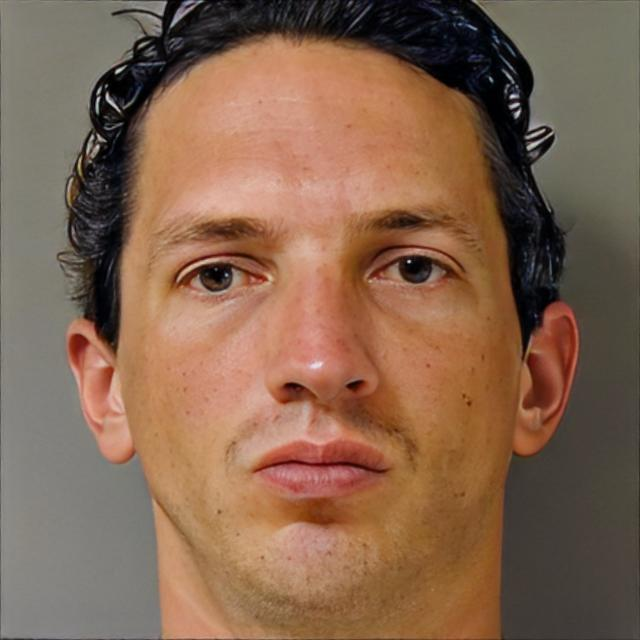neutral: (116, 26, 527, 618)
